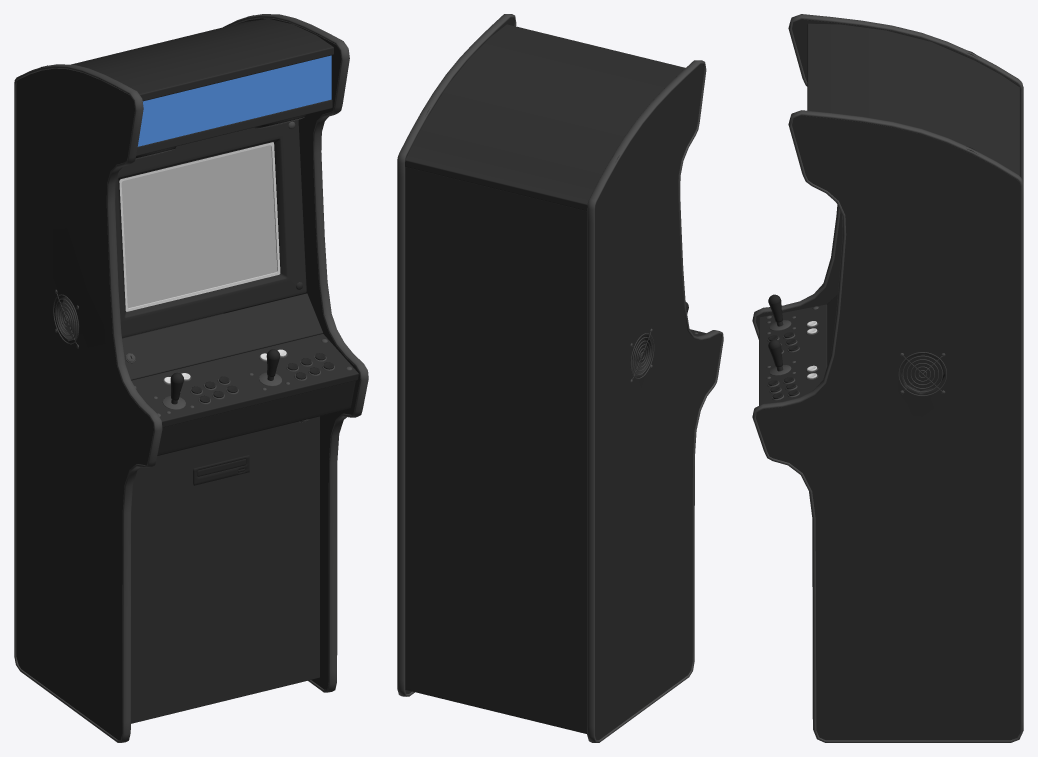
The model's file is arcade_web.glb.
The picture shows the model from 3 angles, left to right: view 1: azimuth 30°, elevation 25°; view 2: azimuth 150°, elevation 25°; view 3: azimuth 270°, elevation 25°; orthographic projection. The views are drawn at different scales.
Visible parts, largest first — view 1: Arcade_machine; view 2: Arcade_machine; view 3: Arcade_machine.
Part boxes in pixels (box(x1,y1,x2,y2)): Arcade_machine: box(14, 14, 368, 742); Arcade_machine: box(397, 14, 723, 742); Arcade_machine: box(752, 14, 1023, 742).
Size of the model in its own units: 0.5632 by 1.65 by 0.6437.
